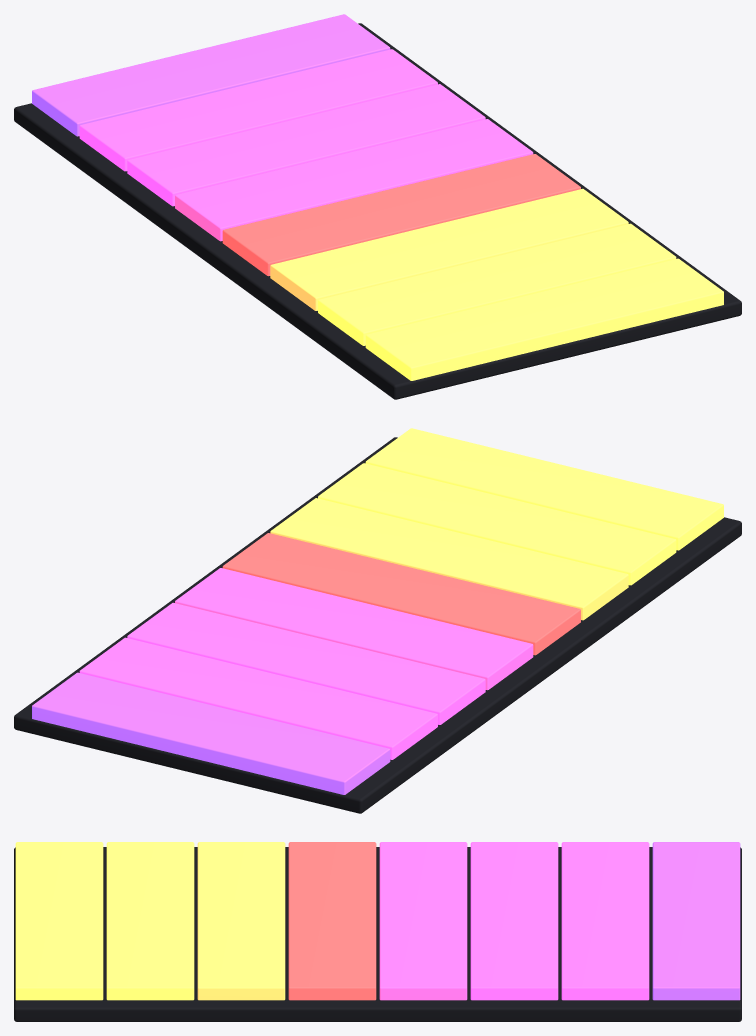
3 renders of one model, top to bottom at view 1: azimuth 30°, elevation 25°; view 2: azimuth 150°, elevation 25°; view 3: azimuth 270°, elevation 25°, orthographic. The views are drawn at different scales.
Parts seen in each view (by area): view 1: part_040; view 2: part_040; view 3: part_040.
Boxes of the visible parts, left/top/right/bottom form: part_040: left=14, top=14, right=741, bottom=399; part_040: left=14, top=428, right=741, bottom=813; part_040: left=14, top=842, right=741, bottom=1021.
Size of the model in its own units: 0.58 by 0.045 by 1.1.
